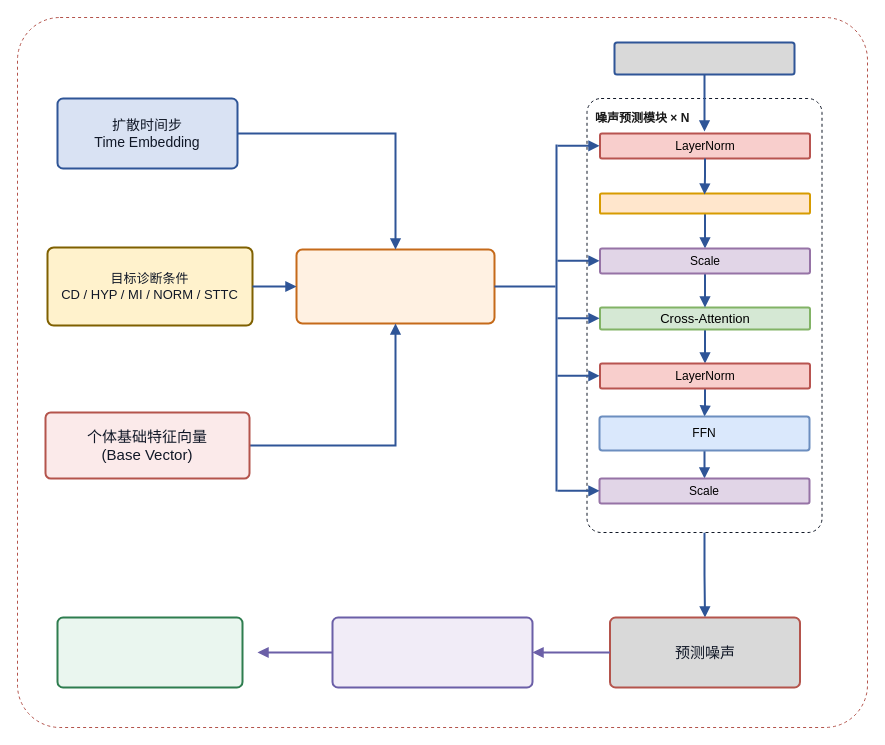
Some shapes in this 885 by 745 pixel diagram are drawn without their labels. The centre of each missing label's shape, as x and y in pixels:
Self-Attention: the point at 704,203
加噪 ECG 潜变量: the point at 704,58
反向扩散采样与解码: the point at 432,652
条件调制模块 (生成偏移、缩放、门控参数): the point at 395,286
生成 ECG 波形 12 导联: the point at 149,652
